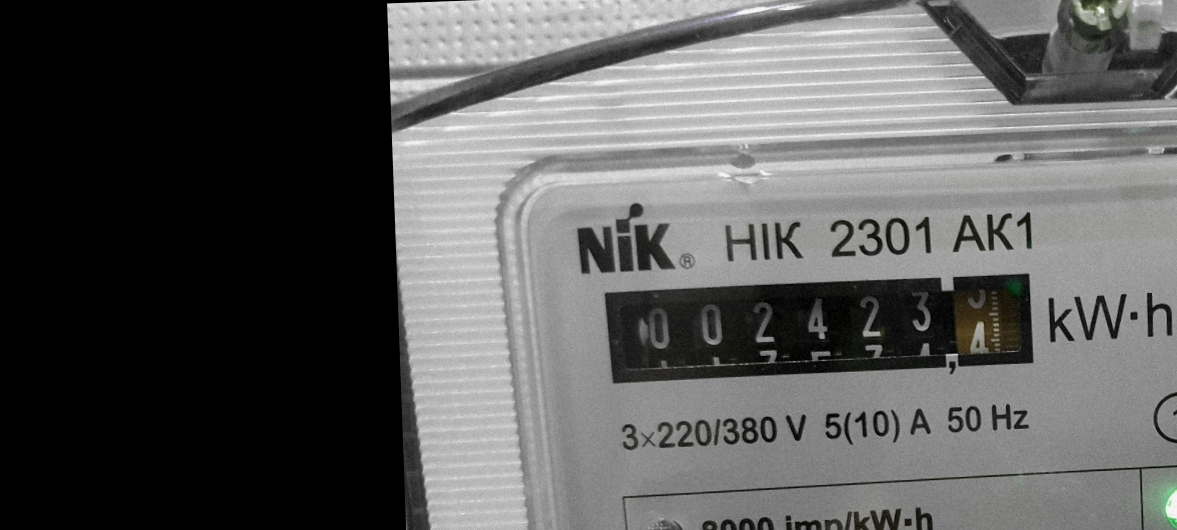0: (645, 302, 674, 352), (698, 301, 725, 347)
2: (750, 297, 778, 345), (858, 293, 883, 339)
3: (909, 288, 934, 333), (966, 286, 988, 309)
4: (805, 295, 829, 341), (966, 317, 992, 355)
screen: (594, 261, 1048, 395)
